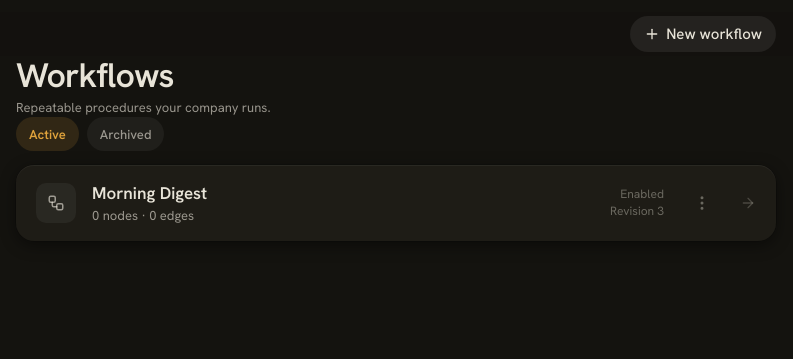
Scenario: workflow list lifecycle menu › opens the menu without following the row's link
Click the button named "Workflow actions for Morning Digest". click: click(702, 203)
box: x1=680 y1=181 x2=724 y2=225
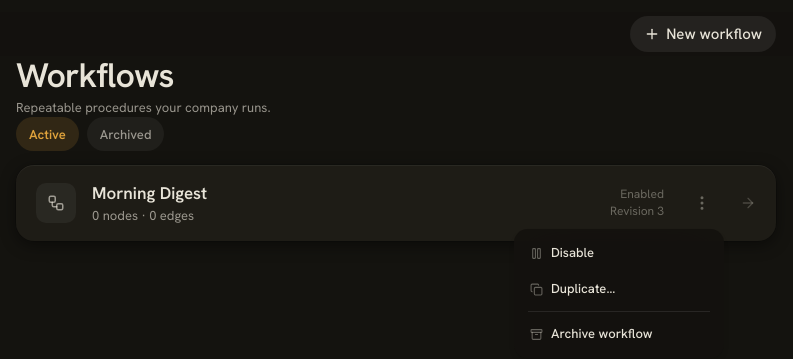
Check: the menu item "Disable" is shown, box x1=530 y1=244 x2=594 y2=261
Check: the menu item "Duplicate…" is shown, box x1=530 y1=280 x2=615 y2=297
Check: the menu item "Archive workflow" is shown, box x1=530 y1=325 x2=652 y2=342
